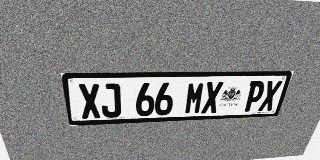6: (154, 82, 175, 116), (136, 83, 155, 116)
J: (100, 83, 121, 118)
M: (184, 82, 206, 114)
P: (242, 81, 267, 112)
X: (78, 84, 102, 119), (258, 81, 283, 111), (201, 82, 224, 114)
